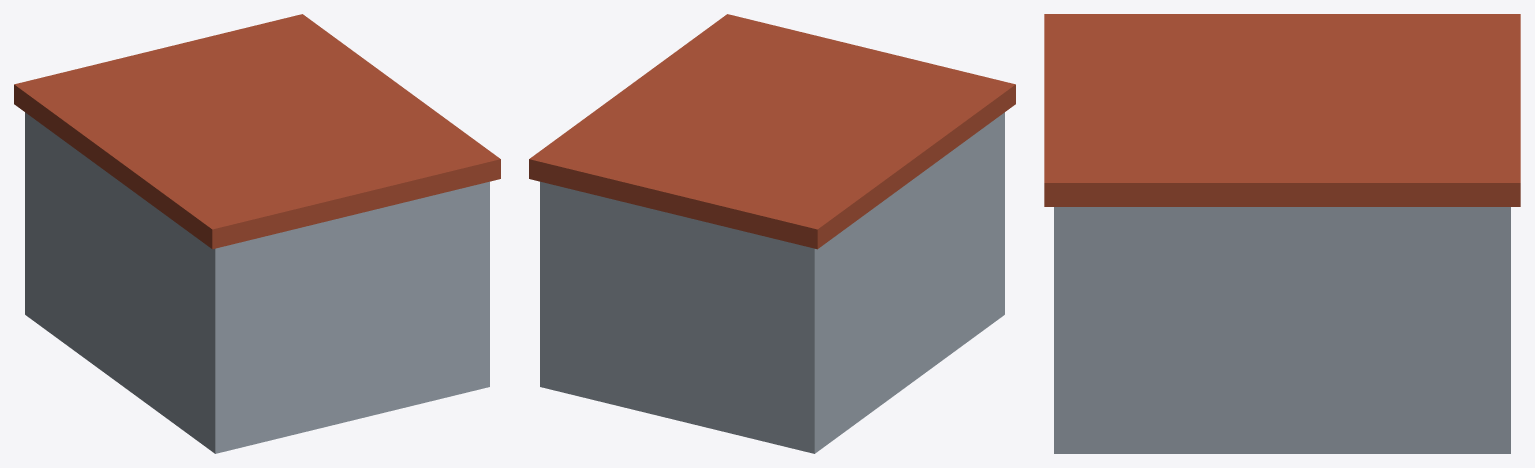
Rendered from CoastalHouse0.fbx.
3 renders of one model, left to right at view 1: azimuth 30°, elevation 25°; view 2: azimuth 150°, elevation 25°; view 3: azimuth 270°, elevation 25°, orthographic. The views are drawn at different scales.
Visible parts, largest first — view 1: CoastalHouse0Mesh; view 2: CoastalHouse0Mesh; view 3: CoastalHouse0Mesh.
Boxes of the visible parts, x1,y1,x2,y2 form: CoastalHouse0Mesh: (14, 14, 500, 453); CoastalHouse0Mesh: (529, 14, 1015, 453); CoastalHouse0Mesh: (1044, 14, 1520, 453).
Bounding box in the file's own units: 9.13 × 6.93 × 10.87.
